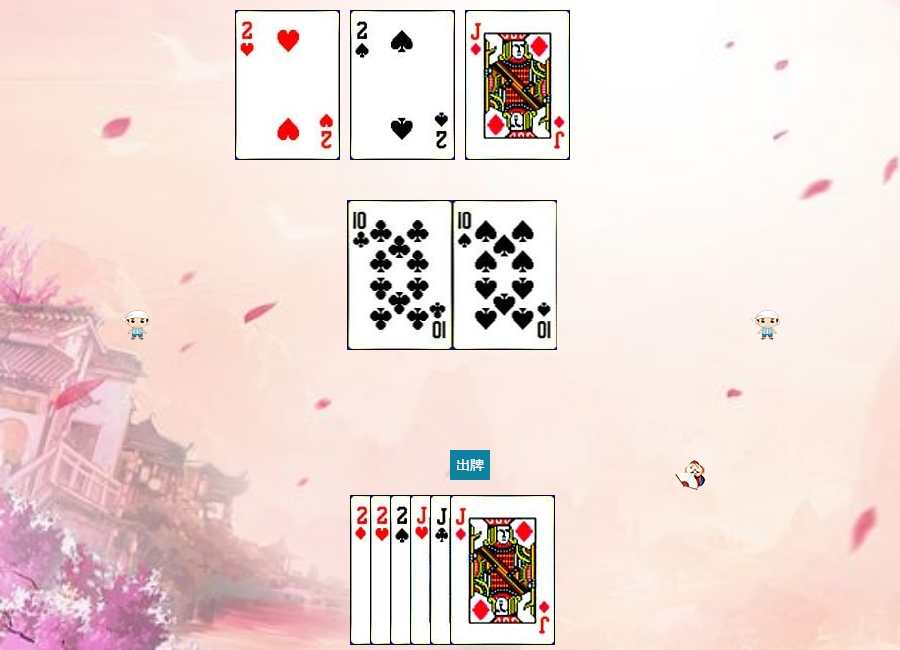10~2: (348, 200, 453, 350)
10~4: (453, 200, 558, 350)
11~1: (465, 10, 570, 160), (450, 495, 555, 645)
11~2: (430, 495, 535, 645)
11~3: (410, 495, 515, 645)
15~1: (350, 495, 455, 645)
15~3: (235, 10, 340, 160), (370, 495, 475, 645)
15~4: (350, 10, 455, 160), (390, 495, 495, 645)
